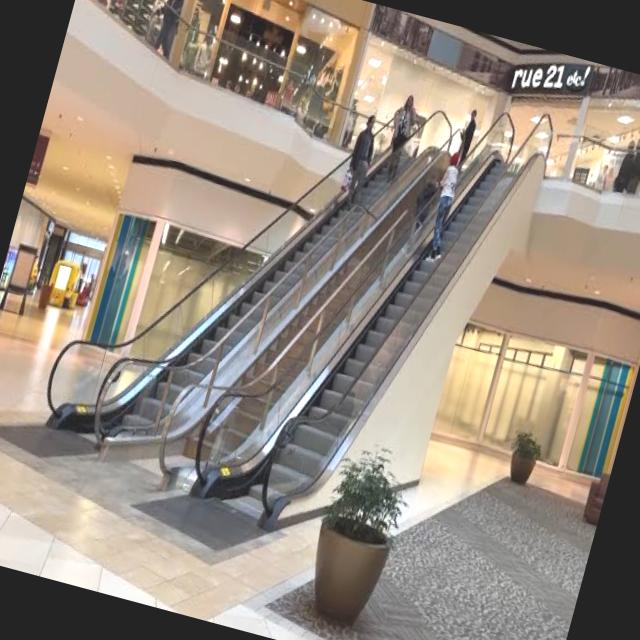escalator: (121, 104, 560, 569), (0, 95, 458, 478)
